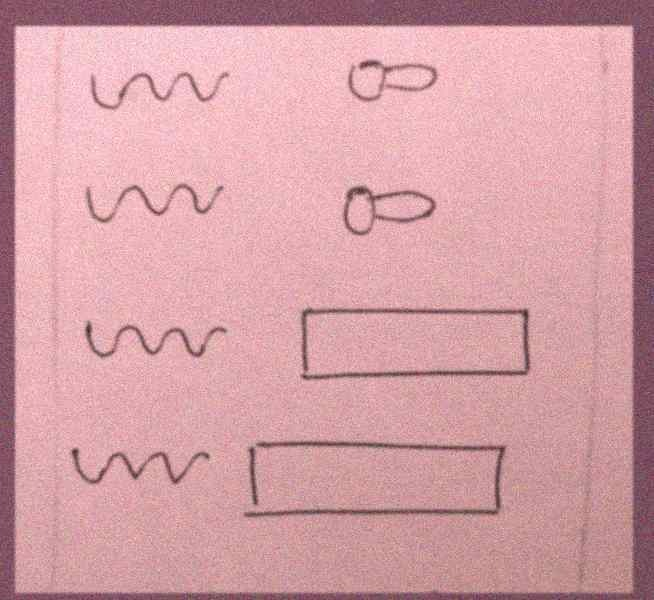switch: (336, 177, 465, 257), (333, 45, 449, 116)
text: (75, 302, 233, 378), (62, 435, 216, 500), (76, 170, 229, 232), (82, 58, 234, 119)
text_input: (234, 425, 513, 529), (287, 295, 542, 390)
